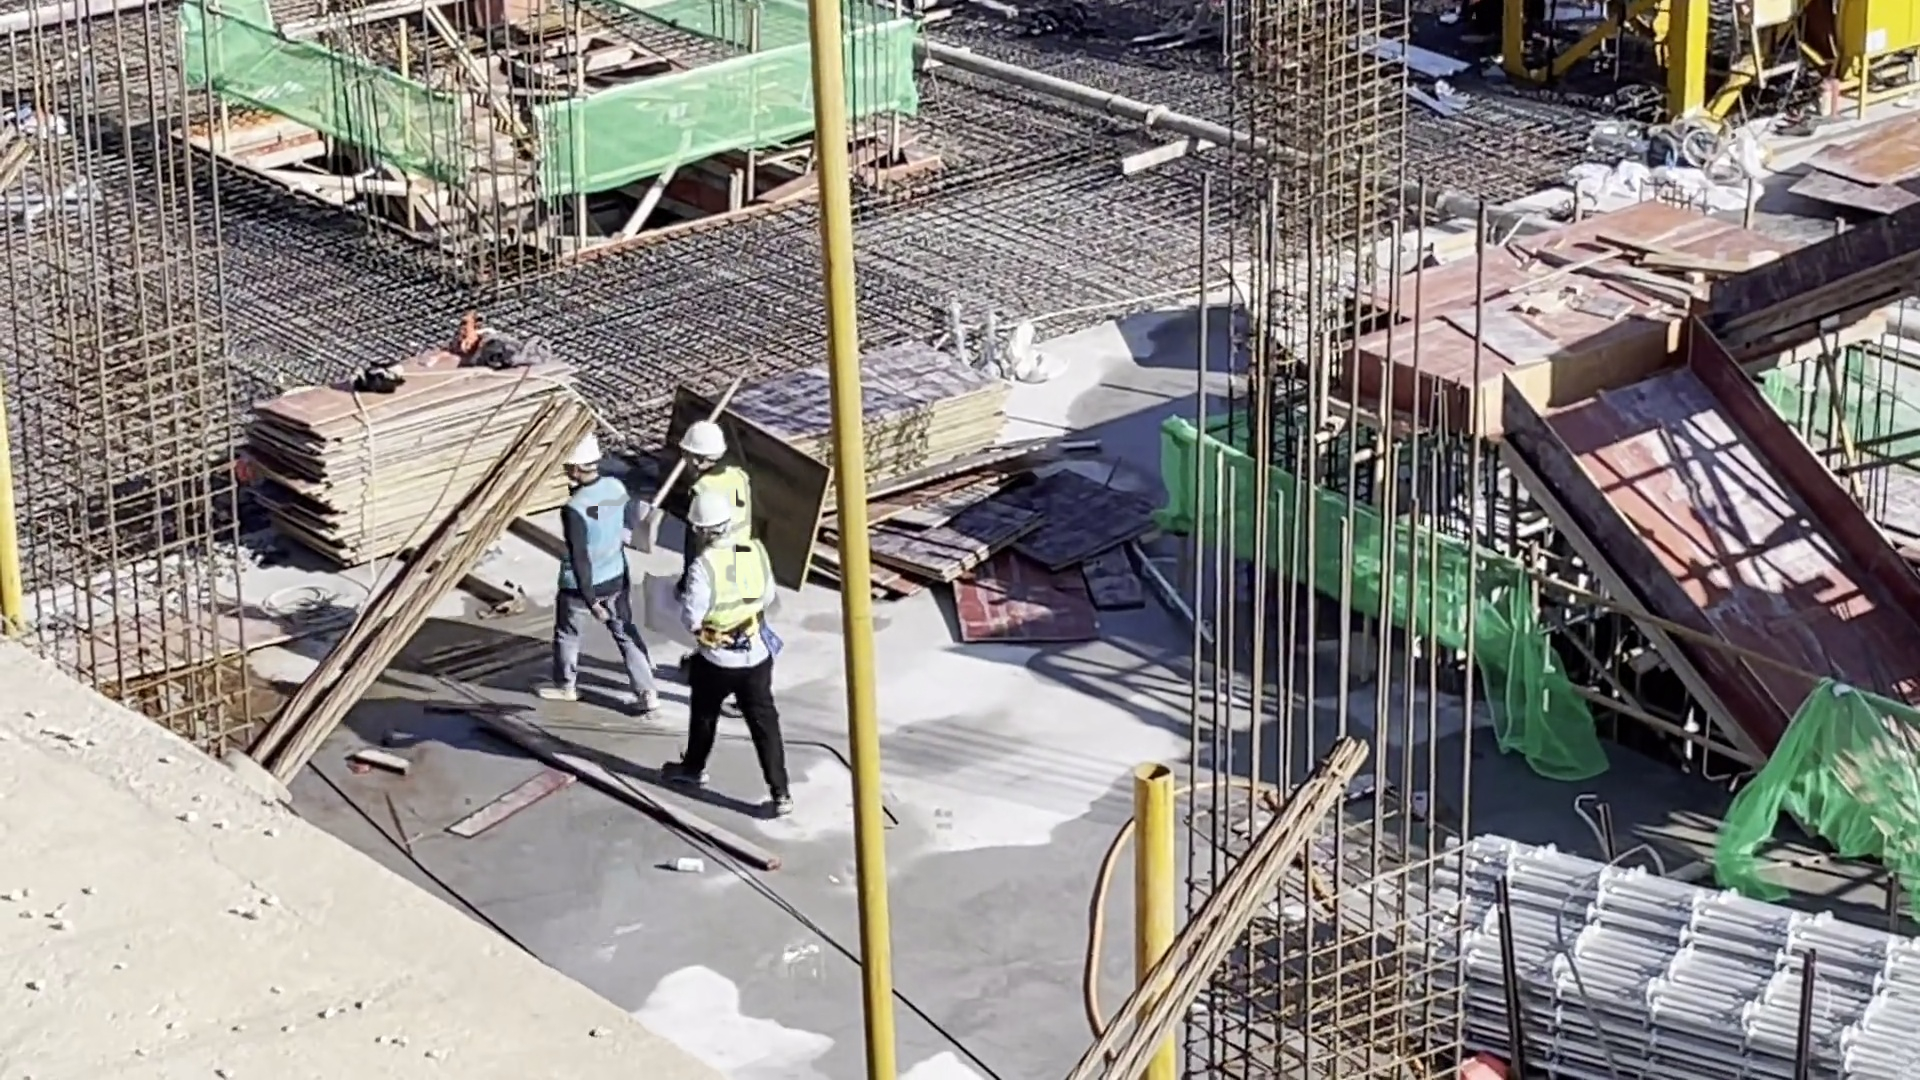helmet: (678, 423, 726, 455), (686, 495, 731, 526), (564, 436, 600, 466)
person: (662, 490, 797, 818), (528, 433, 663, 715), (678, 420, 755, 542)
vest: (562, 477, 628, 589), (698, 539, 767, 629), (697, 473, 751, 538)
